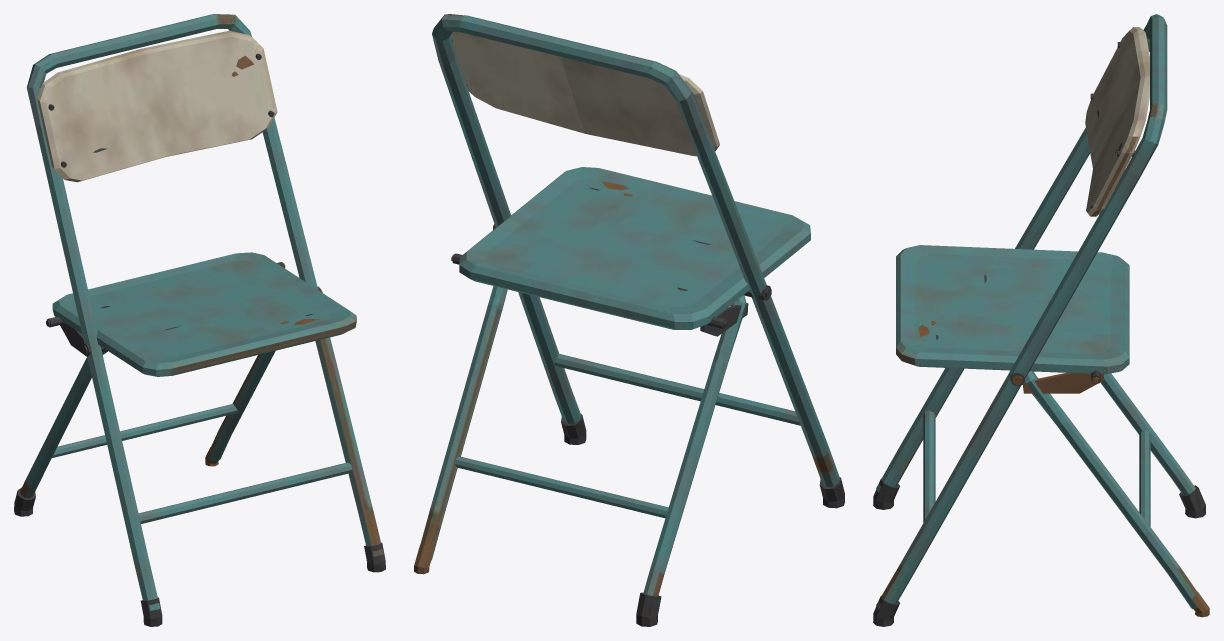
File: L28_folding_chair.glb
The picture shows the model from 3 angles, left to right: view 1: azimuth 30°, elevation 25°; view 2: azimuth 150°, elevation 25°; view 3: azimuth 270°, elevation 25°; orthographic projection. The views are drawn at different scales.
Parts seen in each view (by area): view 1: Folding chair; view 2: Folding chair; view 3: Folding chair.
Part boxes in pixels (box(x1,y1,x2,y2)): Folding chair: box(14, 14, 385, 626); Folding chair: box(414, 14, 844, 626); Folding chair: box(873, 14, 1209, 626).
Size of the model in its own units: 0.4831 by 0.9 by 0.5463.
5 materials, 5 textured.
